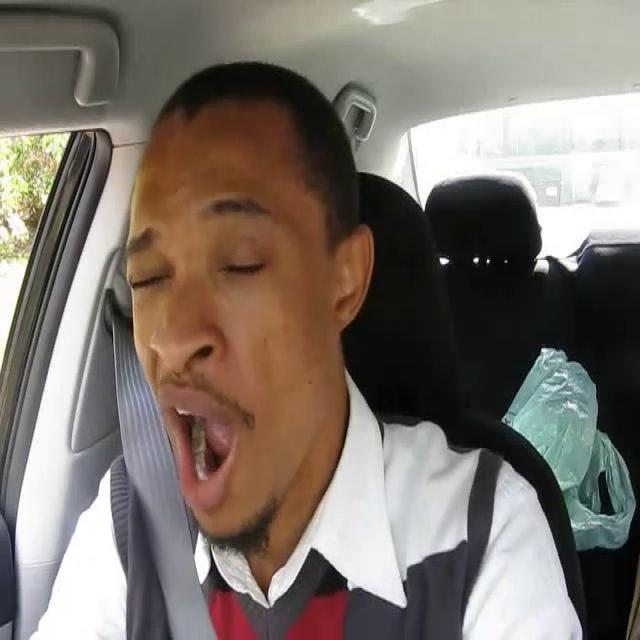close: (198, 191, 290, 290), (112, 221, 188, 301)
